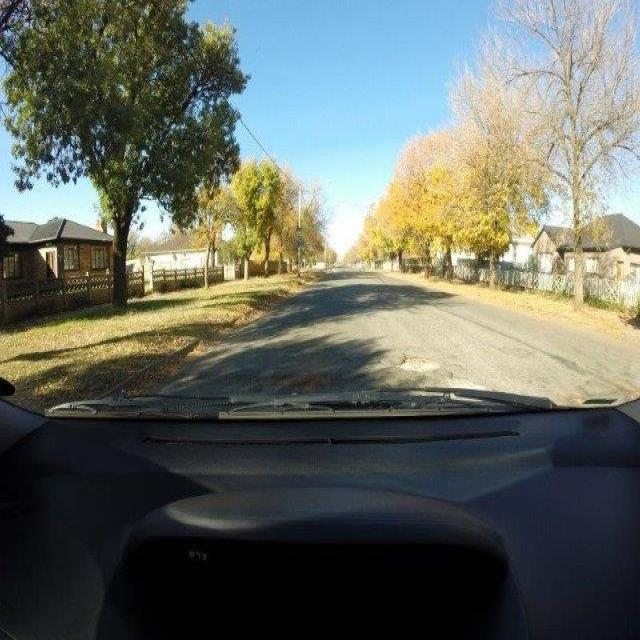lubang: (234, 359, 345, 404), (440, 373, 492, 408), (390, 346, 441, 374)
